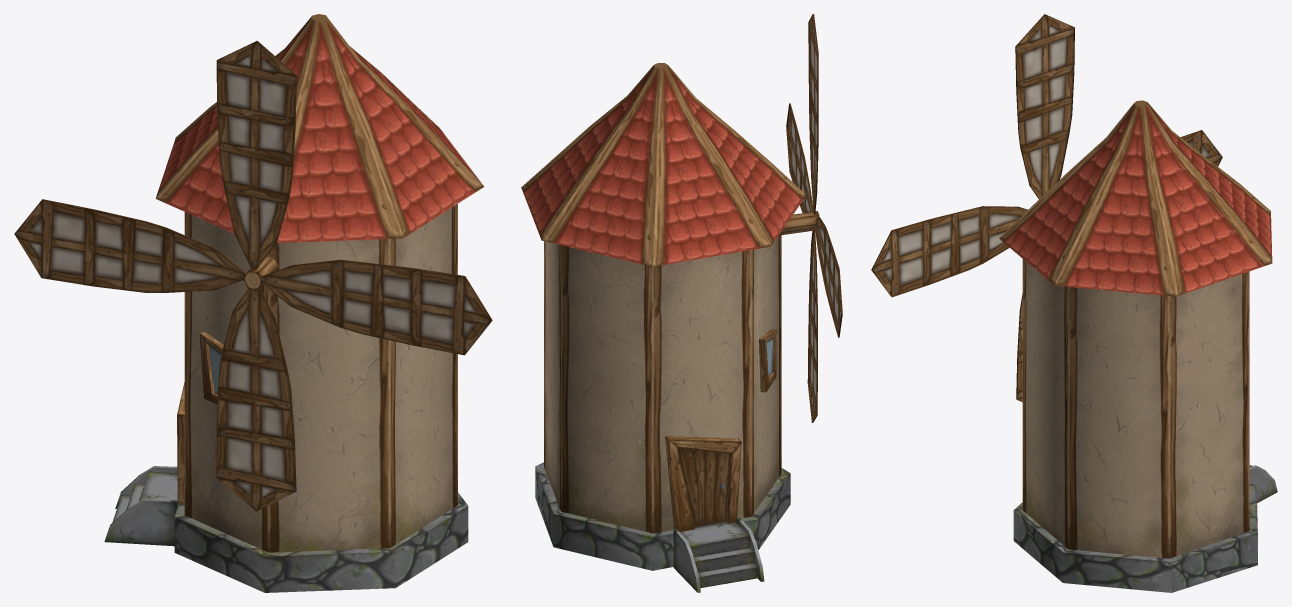
The picture shows the model from 3 angles, left to right: view 1: azimuth 30°, elevation 25°; view 2: azimuth 150°, elevation 25°; view 3: azimuth 270°, elevation 25°; orthographic projection. The views are drawn at different scales.
Parts seen in each view (by area): view 1: wind_mill; view 2: wind_mill; view 3: wind_mill.
Part boxes in pixels (x1,y1,x2,y2): wind_mill: [14, 14, 492, 592]; wind_mill: [521, 14, 842, 592]; wind_mill: [871, 14, 1277, 592].
Size of the model in its own units: 52.19 by 70.9 by 54.48.
Materials: 1 (1 with a texture image).
